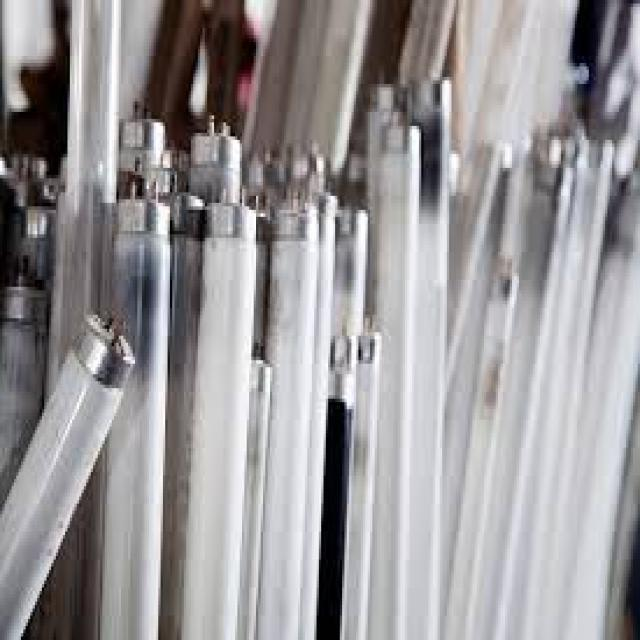tubelight_off: (466, 129, 579, 640), (516, 141, 617, 640), (0, 305, 136, 640), (555, 160, 640, 640), (92, 186, 172, 640), (177, 202, 259, 640), (437, 263, 528, 640), (45, 0, 123, 402), (264, 207, 320, 640), (370, 123, 416, 640), (411, 74, 453, 640), (297, 189, 345, 640), (164, 193, 206, 640), (442, 137, 509, 401), (0, 267, 49, 517), (344, 329, 381, 640), (363, 82, 411, 203), (332, 206, 369, 345), (189, 122, 246, 206), (112, 118, 165, 207), (132, 147, 187, 208), (323, 335, 361, 404)
